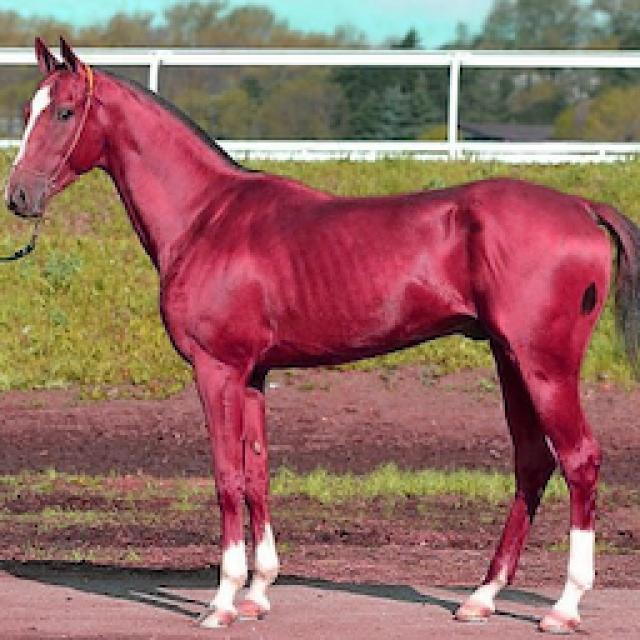Horse: (2, 30, 640, 635)
